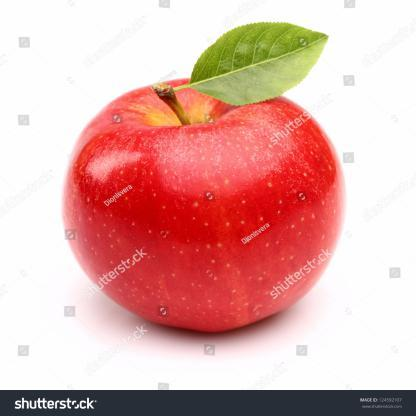Apple leaf: (182, 19, 340, 103)
